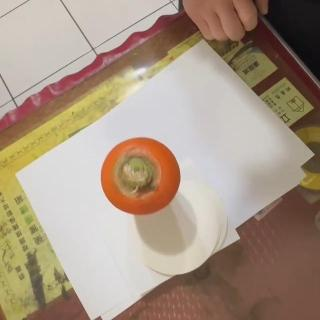carrot: (101, 135, 183, 215)
